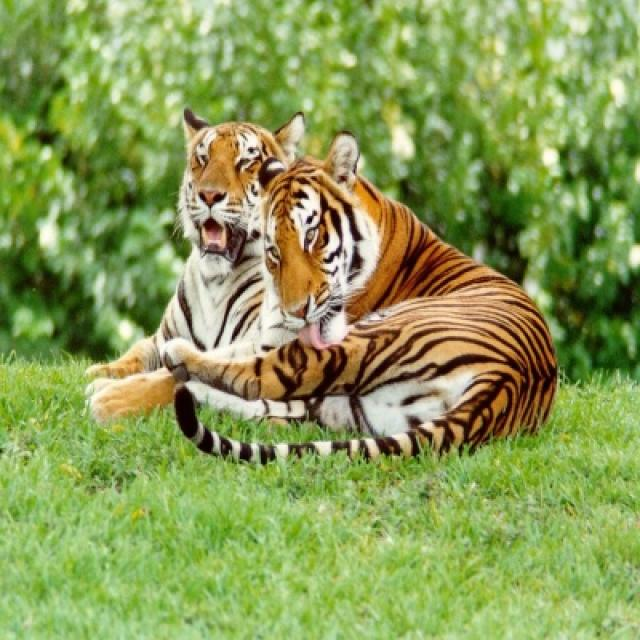Tiger: (160, 131, 558, 464), (86, 111, 305, 427)
